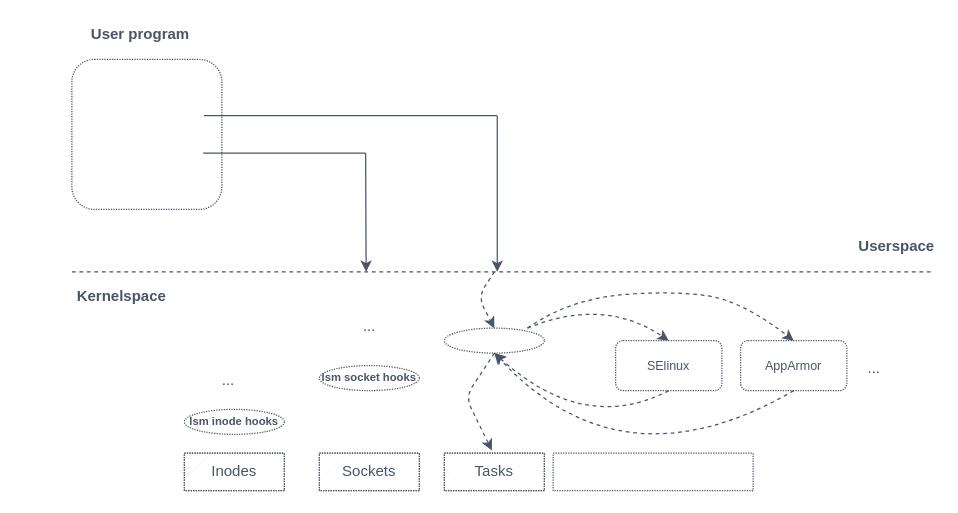
The diagram is 958 pixels wide and 513 high, and some of its shapes have lost their labels. The shapes that lost their labels are listed below. From the top down, each one's centre as x and y in pixels, then its label:
At (x=146, y=133): "main () { syscall() ... syscall() ... }".
At (x=493, y=340): "lsm task hooks".
At (x=652, y=471): "Other kernel structures ..".
